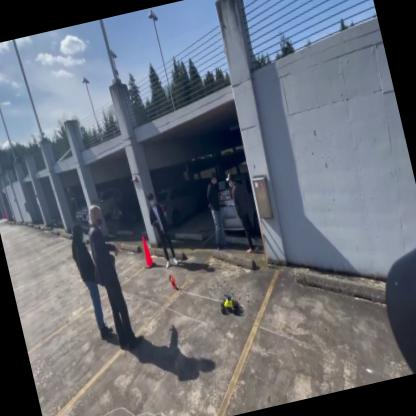cone: (136, 232, 157, 272)
mushr_car: (215, 288, 242, 320)
